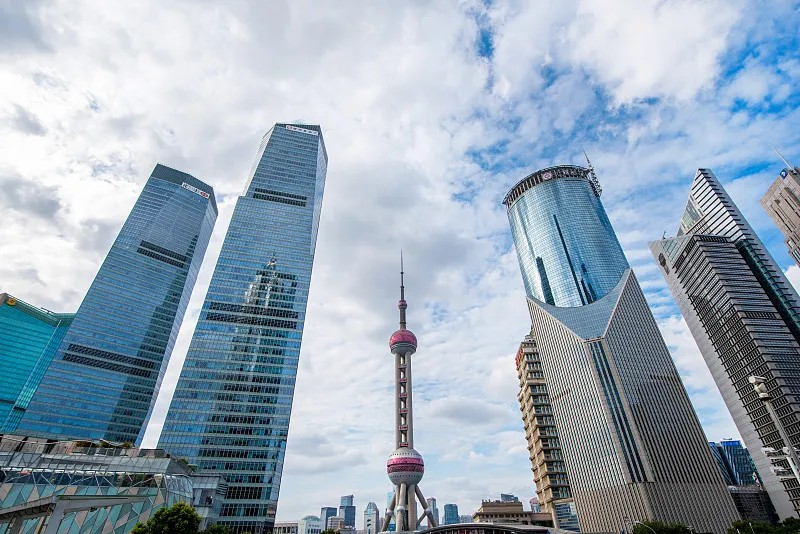Oriental: (381, 250, 435, 534)
